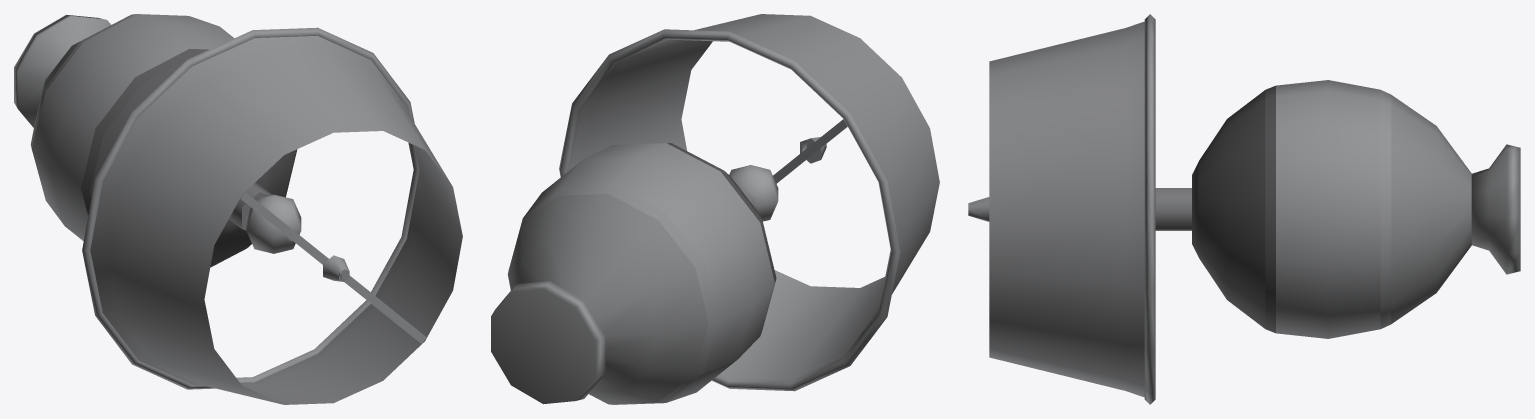
The picture shows the model from 3 angles, left to right: view 1: azimuth 30°, elevation 25°; view 2: azimuth 150°, elevation 25°; view 3: azimuth 270°, elevation 25°; orthographic projection.
Size of the model in its own units: 0.56 by 0.56 by 0.79.
